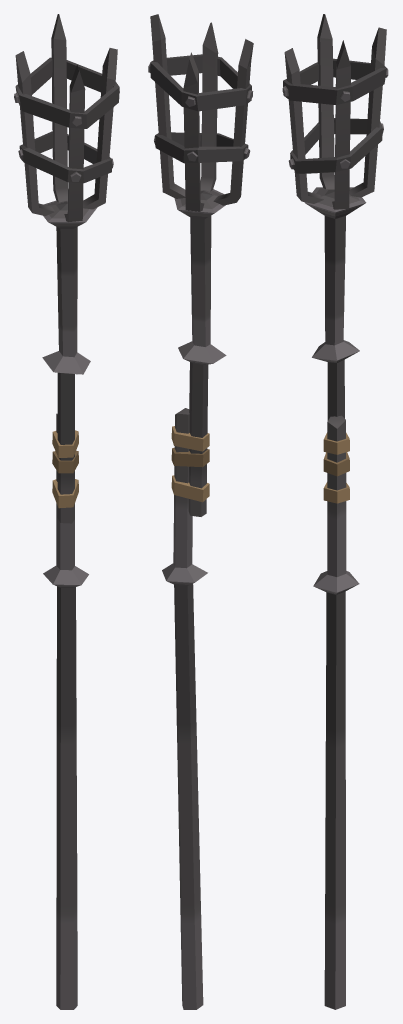
Rendered from bog_torch.gltf.
3 views of the same model, side by side, from view 1: azimuth 90°, elevation 25°; view 2: azimuth 150°, elevation 25°; view 3: azimuth 270°, elevation 25° (orthographic).
Parts seen in each view (by area): view 1: bog_torch; view 2: bog_torch; view 3: bog_torch.
Boxes of the visible parts, x1,y1,x2,y2 form: bog_torch: (14, 14, 119, 1009); bog_torch: (148, 14, 253, 1009); bog_torch: (282, 14, 388, 1009).
Bounding box in the file's own units: 0.4455 × 4.52 × 0.4433.
Materials: 1 (1 with a texture image).
